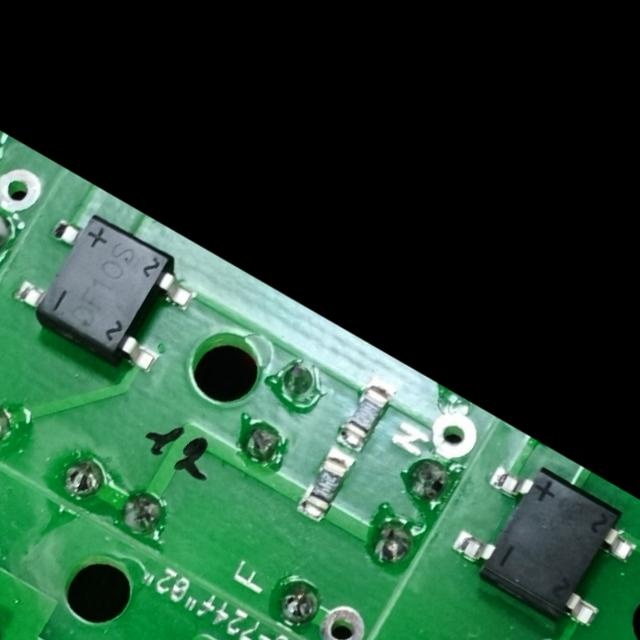chip-resistor: (331, 371, 401, 457), (292, 442, 360, 527)
ic: (1, 192, 211, 388), (440, 442, 640, 640)
